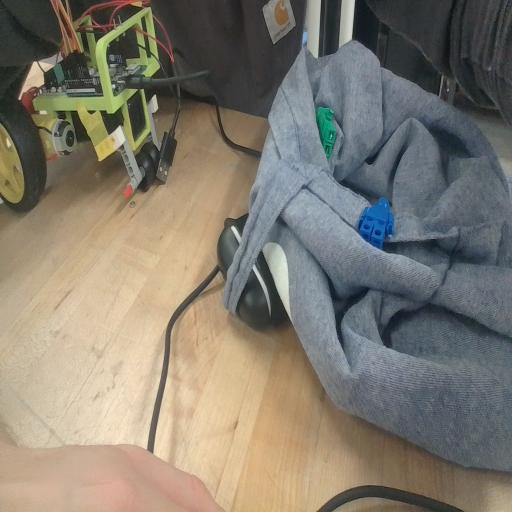blue LEGO minifig: (356, 194, 399, 248)
green LEGO minifig: (316, 101, 338, 153)
